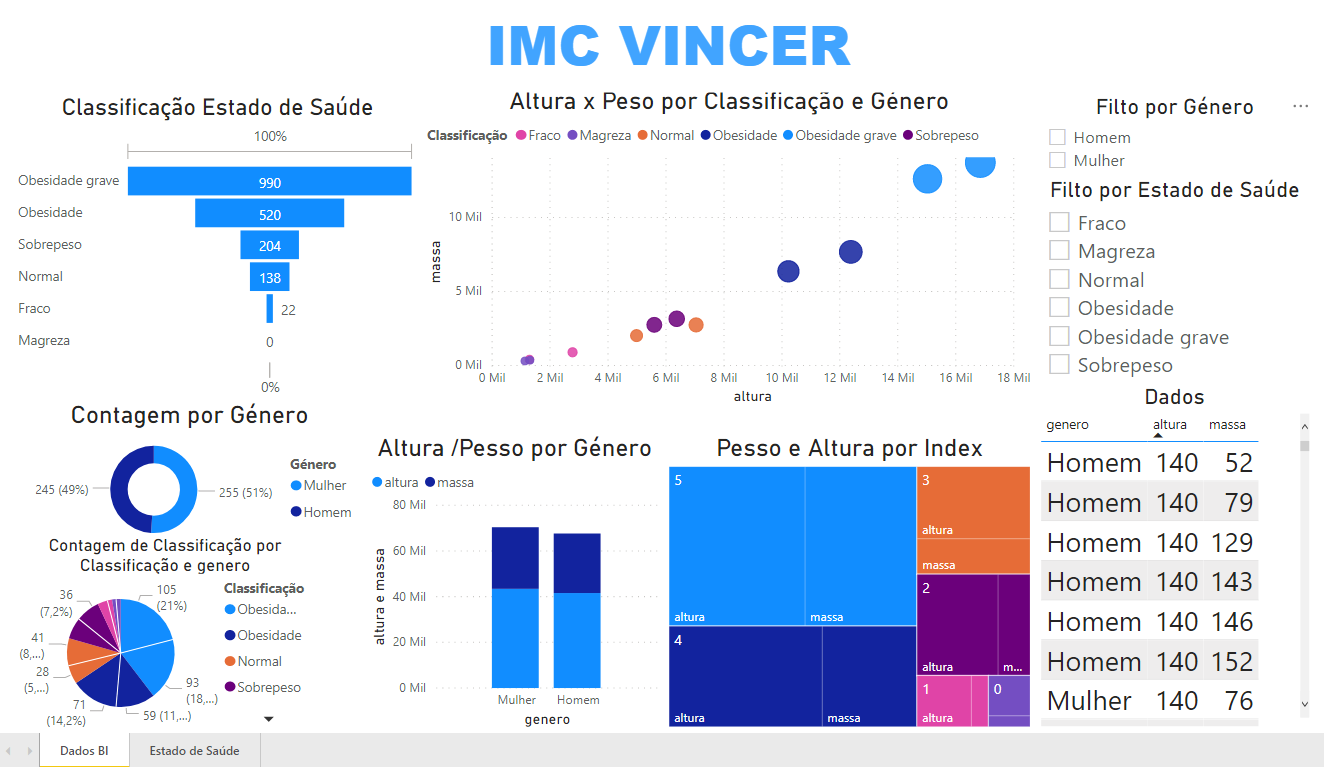

The page's visual inventory and layout, read from the dashboard file:
{"tool":"powerbi","page":{"name":"Dados BI","canvas":[1280,720],"ordinal":0},"visuals":[{"type":"textbox","box":[10.2,0,1269.8,91.4],"z":0},{"type":"donutChart","title":"Contagem  por Género","fields":{"Category":["Consulta1.genero"],"Y":["CountNonNull(Consulta1.genero)"]},"box":[0,394.5,279.4,147.3],"z":1000},{"type":"tableEx","title":"Dados","fields":{"Values":["Consulta1.genero","Consulta1.massa","Consulta1.classif","Consulta1.rank","Consulta1.createdAt"]},"box":[914.3,401.3,365.7,318.3],"z":2000},{"type":"slicer","title":"Filto por Género","fields":{"Values":["Consulta1.genero"]},"box":[1006.7,92,273.3,82.4],"z":3000},{"type":"treemap","title":"Peso e Altura por Index","fields":{"Group":["Consulta1.classif"],"Values":["CountNonNull(Consulta1.altura)"]},"box":[572.3,401.3,342,318.3],"z":5000},{"type":"funnel","title":"Classificação Estado de Saúde","fields":{"Category":["Consulta1.classif"],"Y":["Count(Consulta1._id)"]},"box":[0,92,402.4,302.1],"z":6000},{"type":"slicer","title":"Filto por Estado de Saúde","fields":{"Values":["Consulta1.classif"]},"box":[1006.7,174.4,273.3,203.3],"z":7000},{"type":"pieChart","fields":{"Category":["Consulta1.classif","Consulta1.massa","Consulta1.rank"],"Series":["Consulta1.genero"],"Y":["CountNonNull(Consulta1._id)"]},"box":[0,541.8,279.4,177.8],"z":9000},{"type":"lineClusteredColumnComboChart","title":"Contagem de Rank e Género","fields":{"Y2":["CountNonNull(Consulta1.rank)"],"Category":["Consulta1.rank"],"Y":["CountNonNull(Consulta1._id)"],"Series":["Consulta1.genero"]},"box":[403,91.4,604.4,303.1],"z":9002},{"type":"lineStackedColumnComboChart","title":"Altura /Pesso  por Género","fields":{"Category":["Consulta1.genero"],"Y":["CountNonNull(Consulta1.altura)","CountNonNull(Consulta1.massa)"]},"box":[279.4,401.3,292.9,318.3],"z":9003}]}

Visuals, with their boxes on the page's 1280x720 design canvas (x1, y1, x2, y2). These are canvas units, not pixel positions in the 1324x767 screenshot, which may show the page scaled, cropped or inside an application window:
textbox: l=10, t=0, r=1280, b=91
"Contagem  por Género" donutChart: l=0, t=394, r=279, b=542
"Dados" tableEx: l=914, t=401, r=1280, b=720
"Filto por Género" slicer: l=1007, t=92, r=1280, b=174
"Peso e Altura por Index" treemap: l=572, t=401, r=914, b=720
"Classificação Estado de Saúde" funnel: l=0, t=92, r=402, b=394
"Filto por Estado de Saúde" slicer: l=1007, t=174, r=1280, b=378
pieChart - Consulta1.classif x Consulta1.massa: l=0, t=542, r=279, b=720
"Contagem de Rank e Género" lineClusteredColumnComboChart: l=403, t=91, r=1007, b=394
"Altura /Pesso  por Género" lineStackedColumnComboChart: l=279, t=401, r=572, b=720
